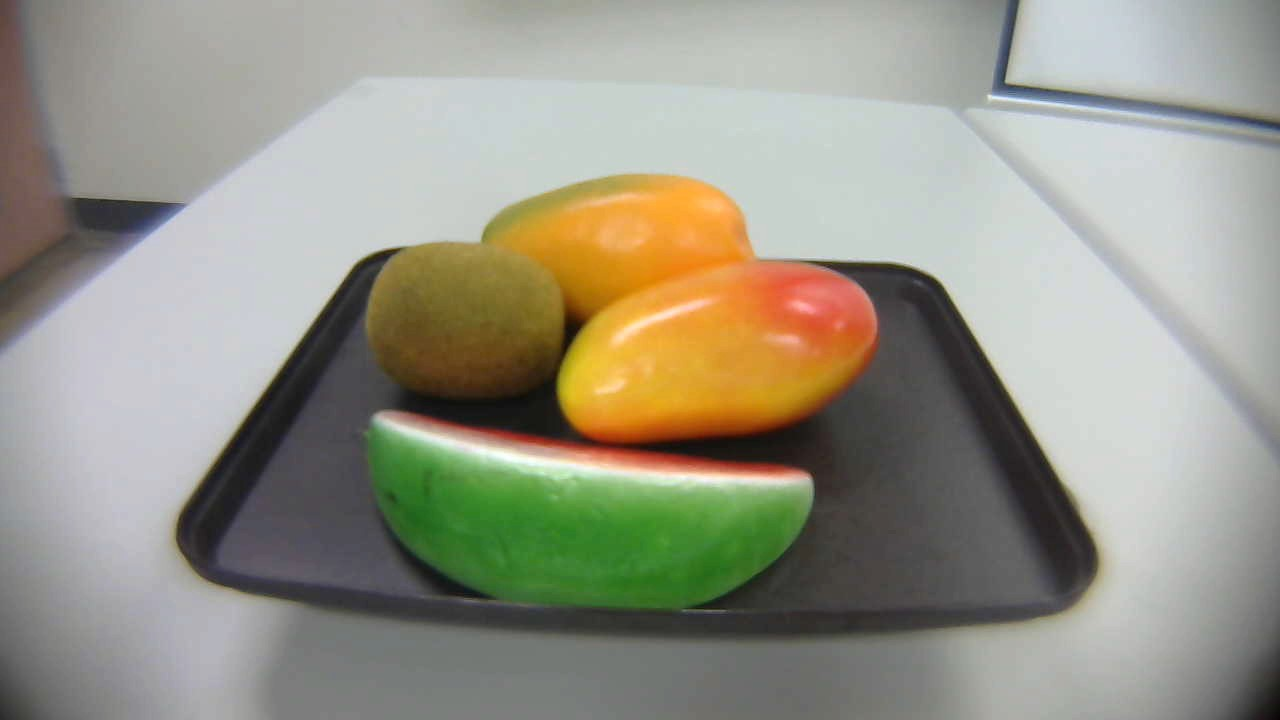kiwi fruit: (362, 242, 576, 400)
papya: (481, 169, 762, 321)
red mango: (554, 253, 899, 445)
water melon: (351, 400, 825, 619)
